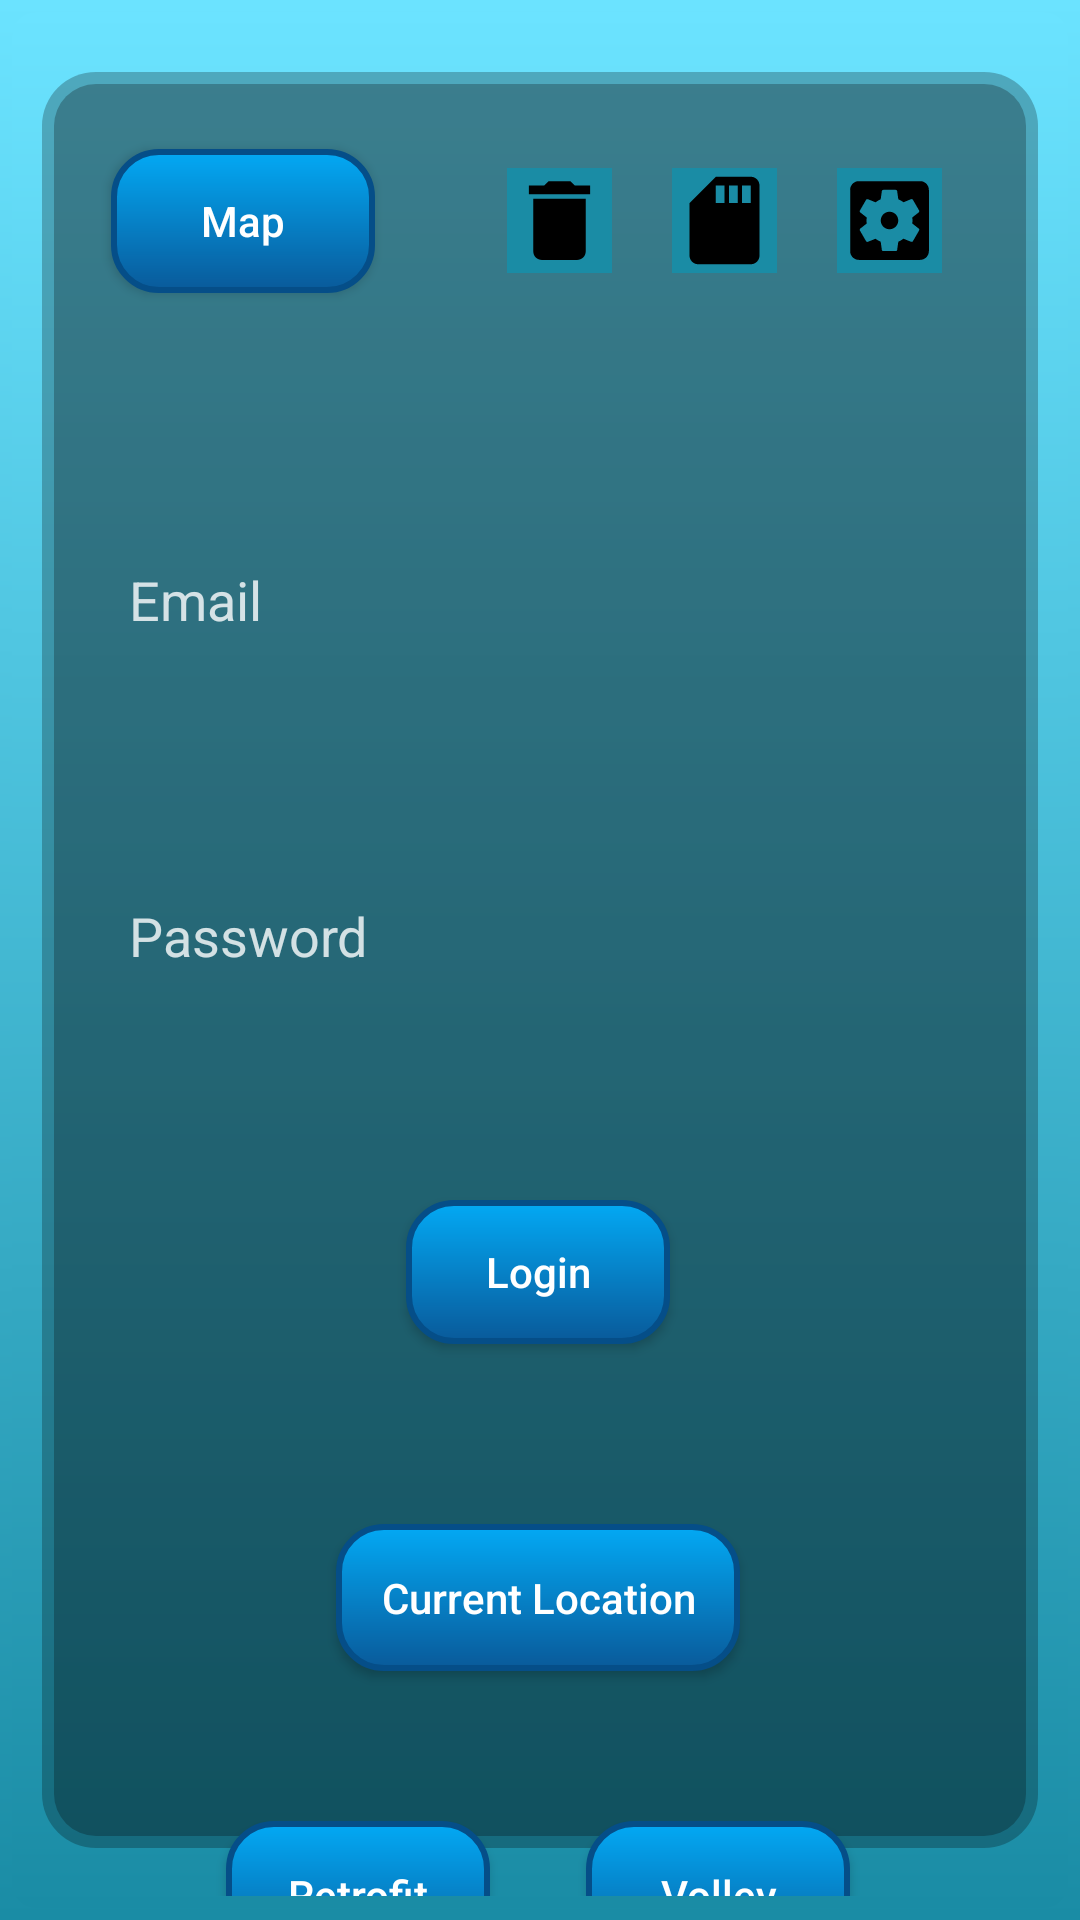

Point at icon controls on the screen. Image size 1080px×1920px, points as point (x, y).
delete: point (559, 220)
sd storage: point (724, 220)
settings applications: point (889, 220)
